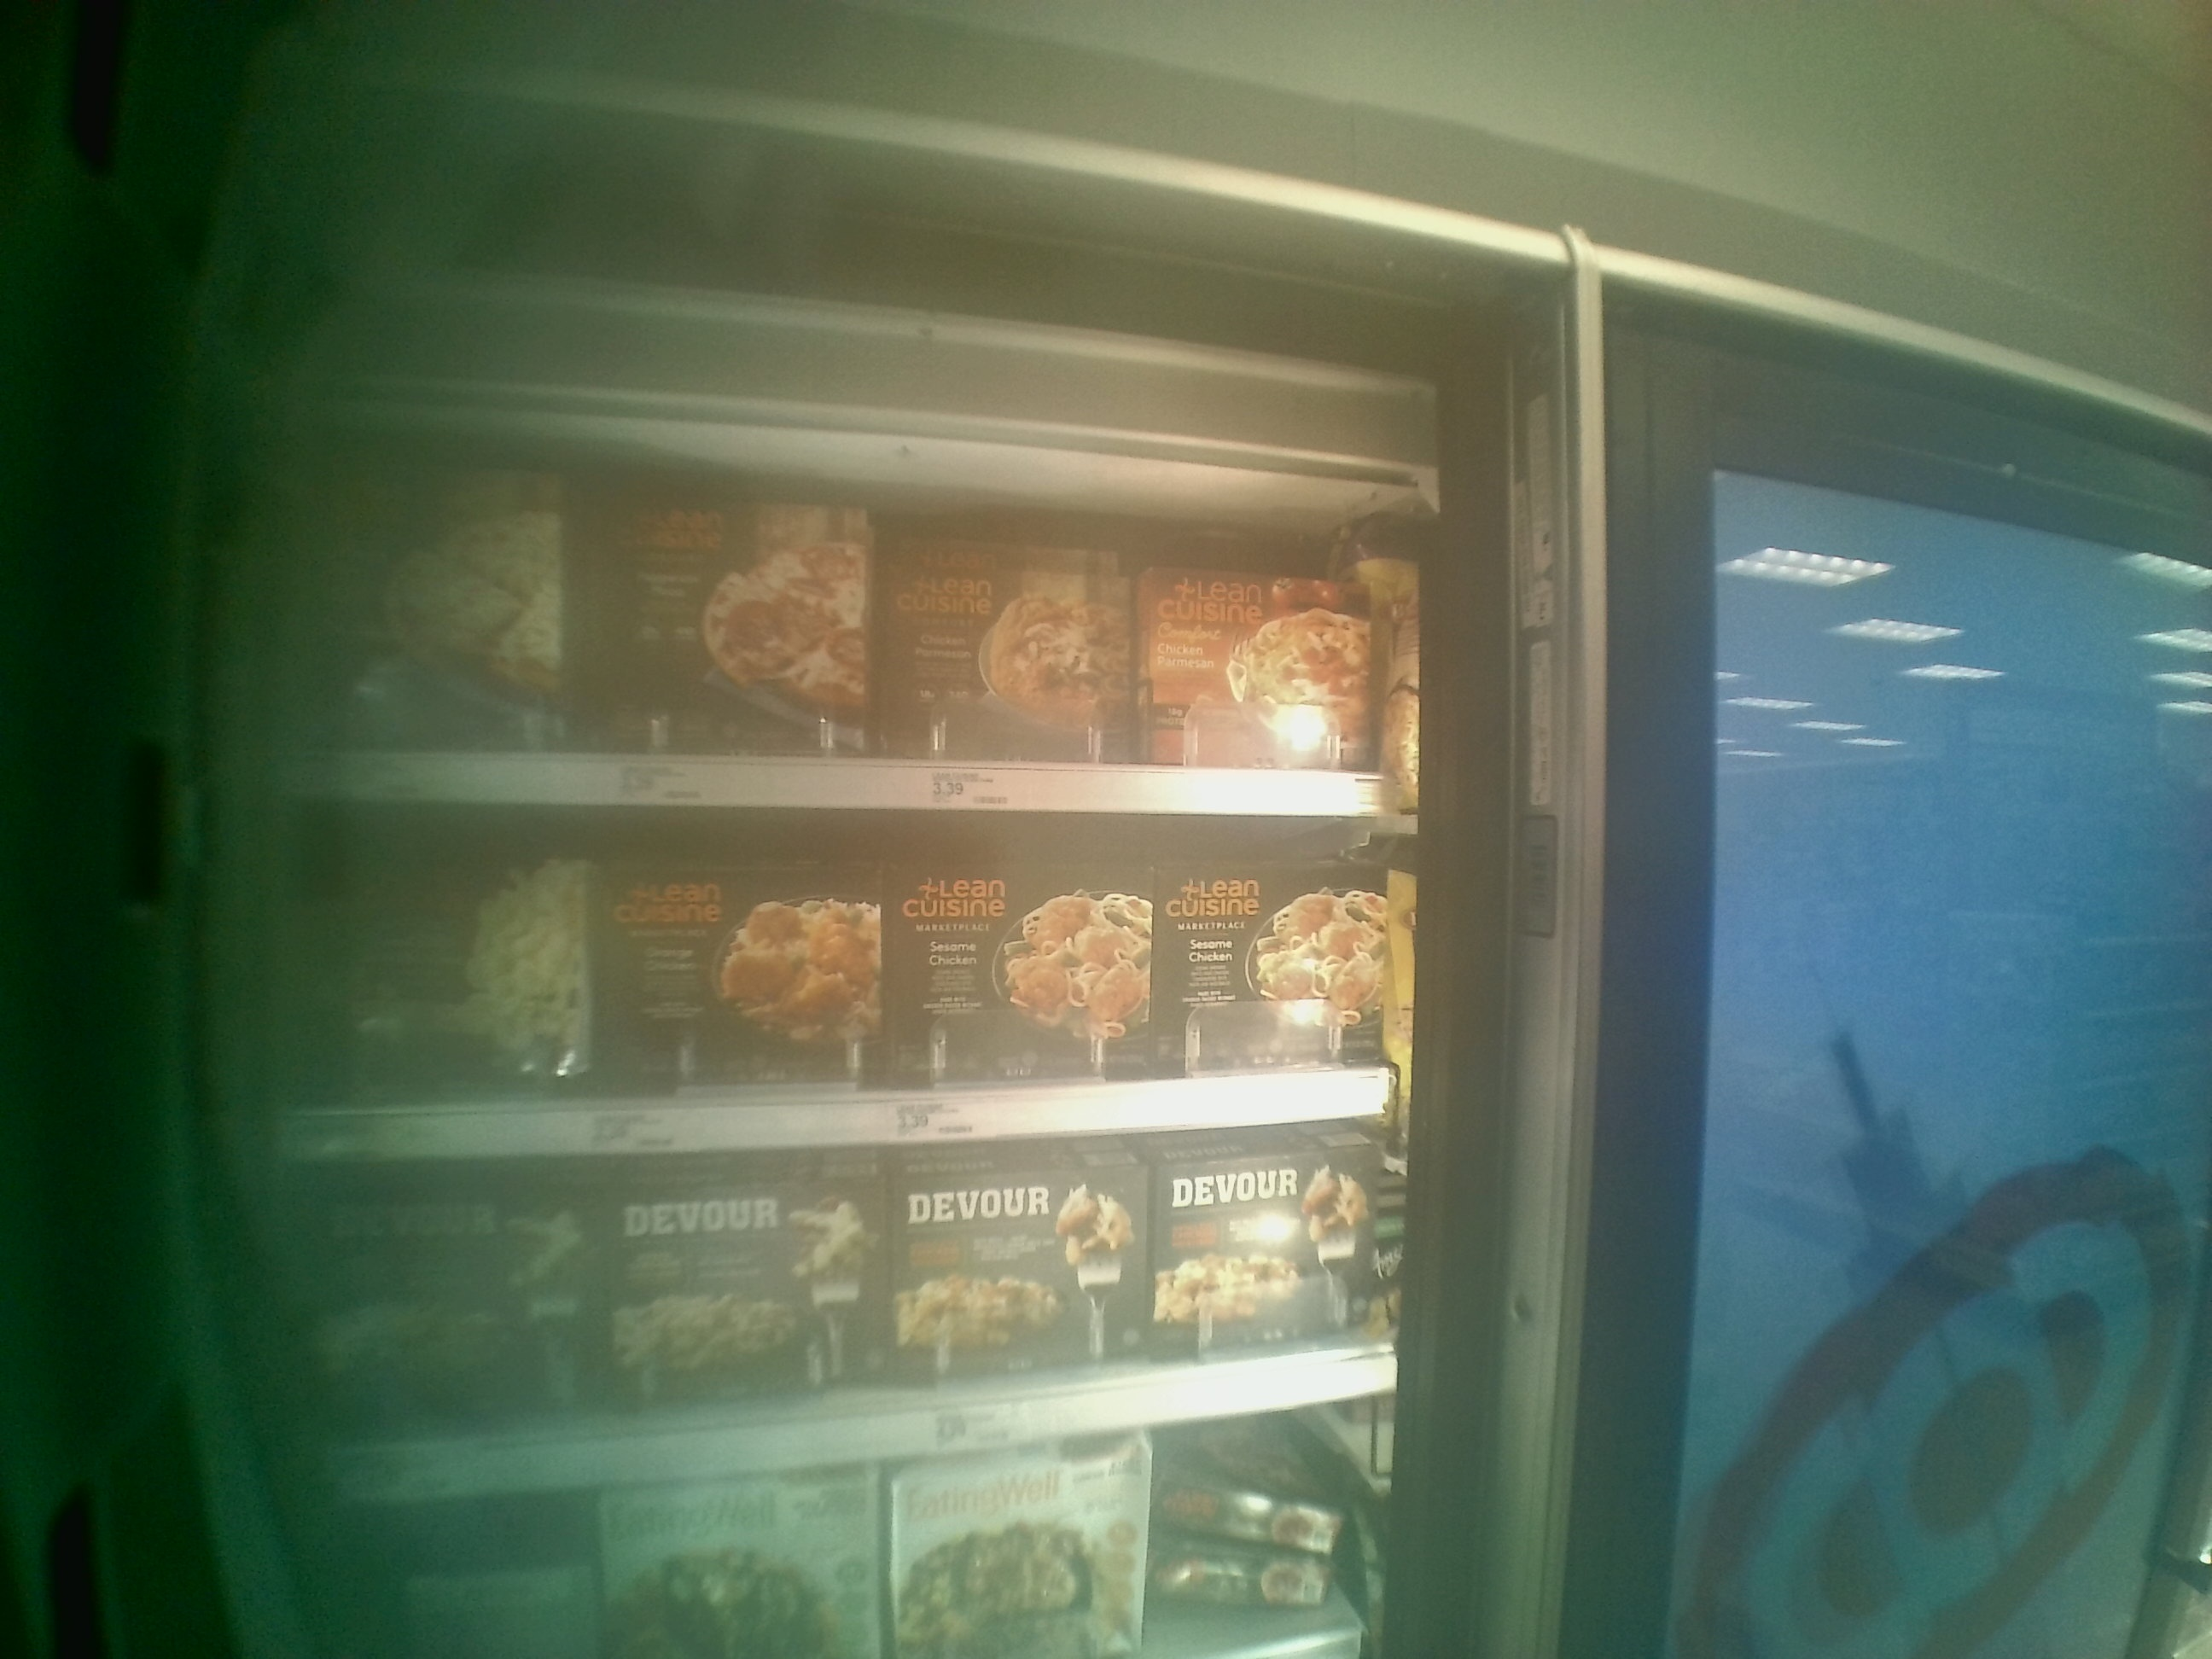shelf: (294, 413, 1393, 809), (289, 1114, 1399, 1502), (291, 807, 1404, 1161)
